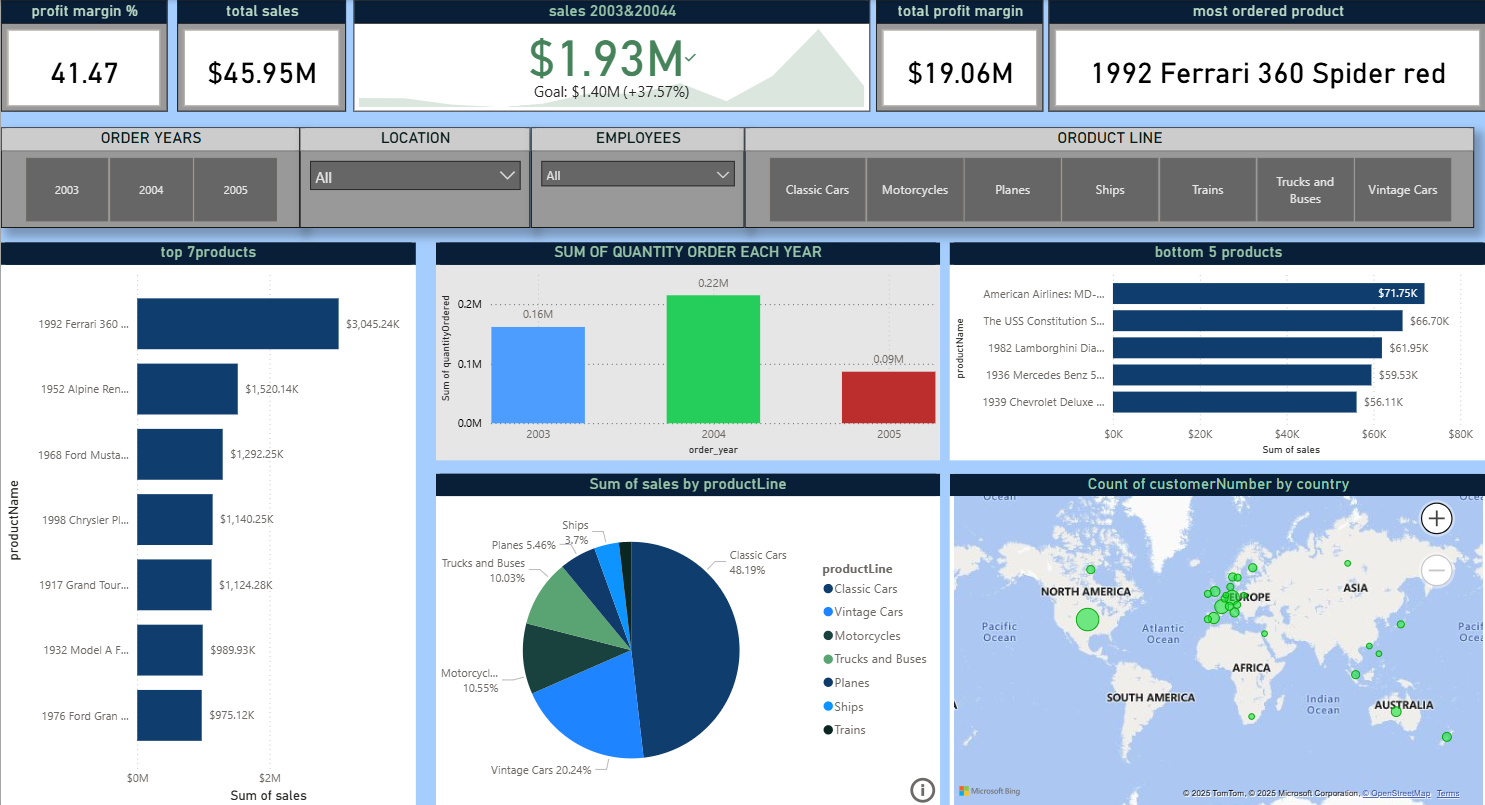

What the dashboard file says about the page in this screenshot:
{"tool":"powerbi","page":{"name":"Page 1","canvas":[1600,870],"ordinal":0},"visuals":[{"type":"cardVisual","title":"total profit margin","fields":{"Data":["order detail.prroffit"]},"box":[941,0,180.4,120.2],"z":0},{"type":"cardVisual","title":"most ordered product","fields":{"Data":["order detail.most_ordered_product"]},"box":[1127.3,0,472,120.2],"z":1000},{"type":"barChart","title":"top 7products","fields":{"Category":["product.productName"],"Y":["order detail.sales"]},"box":[0,261.5,446.4,608.8],"z":2000},{"type":"pieChart","fields":{"Category":["product.productLine"],"Y":["order detail.sales"]},"box":[467.5,509.6,542.6,360.7],"z":3000},{"type":"slicer","title":"ORDER YEARS","fields":{"Values":["orders.order_year"]},"box":[0,136.8,321.7,108.2],"z":4000},{"type":"slicer","title":"LOCATION","fields":{"Values":["office.country","office.state","office.city"]},"box":[321.7,136.8,248,108.2],"z":5000},{"type":"kpi","title":"sales 2003&20044","fields":{"Goal":["orders.sales_2003"],"TrendLine":["orders.Month_no."],"Indicator":["orders.sales_2004"]},"box":[378.8,0,556.2,120.2],"z":6000},{"type":"cardVisual","title":"profit margin %","fields":{"Data":["classic_models_dataset.profit_margin%"]},"box":[0,0,178.9,120.2],"z":7000},{"type":"cardVisual","title":"total sales","fields":{"Data":["order detail.sales"]},"box":[189.4,0,181.9,120.2],"z":8000},{"type":"slicer","title":"EMPLOYEES","fields":{"Values":["employees.fullname"]},"box":[569.7,136.8,230,108.2],"z":9000},{"type":"slicer","title":"ORODUCT LINE","fields":{"Values":["product line.productLine"]},"box":[799.7,136.8,784.6,108.2],"z":10000},{"type":"map","fields":{"Category":["customer.country"],"Size":["customer.customerNumber"]},"box":[1020.6,509.6,578.7,360.7],"z":11000},{"type":"clusteredColumnChart","title":"SUM OF QUANTITY ORDER EACH YEAR","fields":{"Category":["orders.order_year"],"Y":["order detail.quantityOrdered"]},"box":[467.5,261.5,542.6,234.5],"z":12000},{"type":"barChart","title":"bottom 5 products","fields":{"Category":["product.productName"],"Y":["order detail.sales"]},"box":[1020.6,261.5,578.7,234.5],"z":13000},{"type":"actionButton","box":[974,829.7,36.1,40.6],"z":14000}]}

Visuals, with their boxes in screenshot pixels (x1, y1, x2, y2), scaled from the page's 1600x870 canvas onto the 1485x805 screenshot:
"total profit margin" cardVisual: [x1=873, y1=0, x2=1041, y2=111]
"most ordered product" cardVisual: [x1=1046, y1=0, x2=1484, y2=111]
"top 7products" barChart: [x1=0, y1=242, x2=414, y2=804]
pieChart - product.productLine x order detail.sales: [x1=434, y1=472, x2=937, y2=804]
"ORDER YEARS" slicer: [x1=0, y1=127, x2=299, y2=227]
"LOCATION" slicer: [x1=299, y1=127, x2=529, y2=227]
"sales 2003&20044" kpi: [x1=352, y1=0, x2=868, y2=111]
"profit margin %" cardVisual: [x1=0, y1=0, x2=166, y2=111]
"total sales" cardVisual: [x1=176, y1=0, x2=345, y2=111]
"EMPLOYEES" slicer: [x1=529, y1=127, x2=742, y2=227]
"ORODUCT LINE" slicer: [x1=742, y1=127, x2=1470, y2=227]
map - customer.country x customer.customerNumber: [x1=947, y1=472, x2=1484, y2=804]
"SUM OF QUANTITY ORDER EACH YEAR" clusteredColumnChart: [x1=434, y1=242, x2=937, y2=459]
"bottom 5 products" barChart: [x1=947, y1=242, x2=1484, y2=459]
actionButton: [x1=904, y1=768, x2=937, y2=804]
